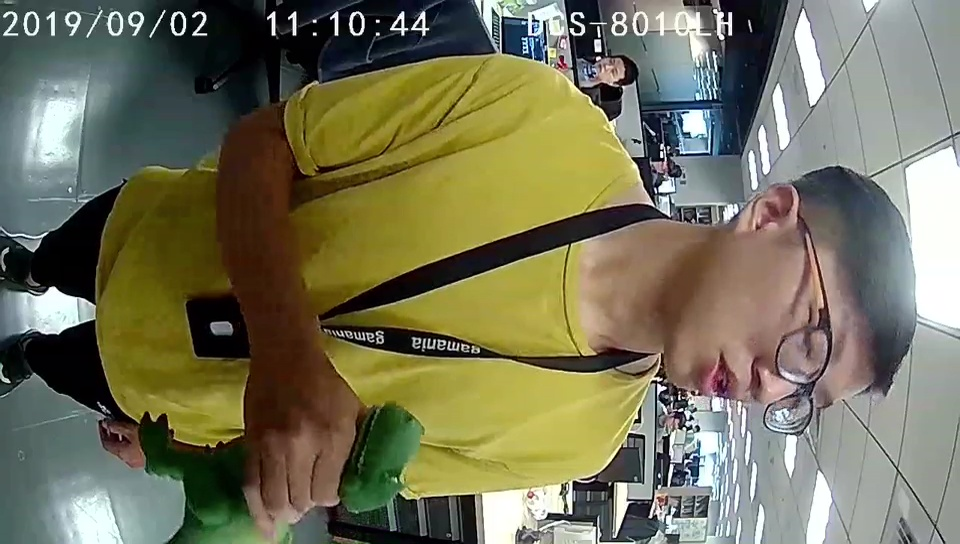rex: (164, 402, 427, 544)
